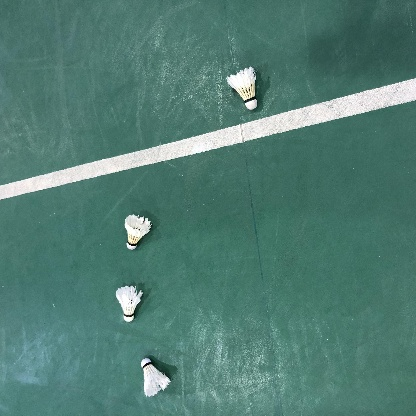ball_single: (226, 66, 258, 110), (141, 358, 171, 397), (124, 214, 152, 250), (116, 285, 143, 322)
